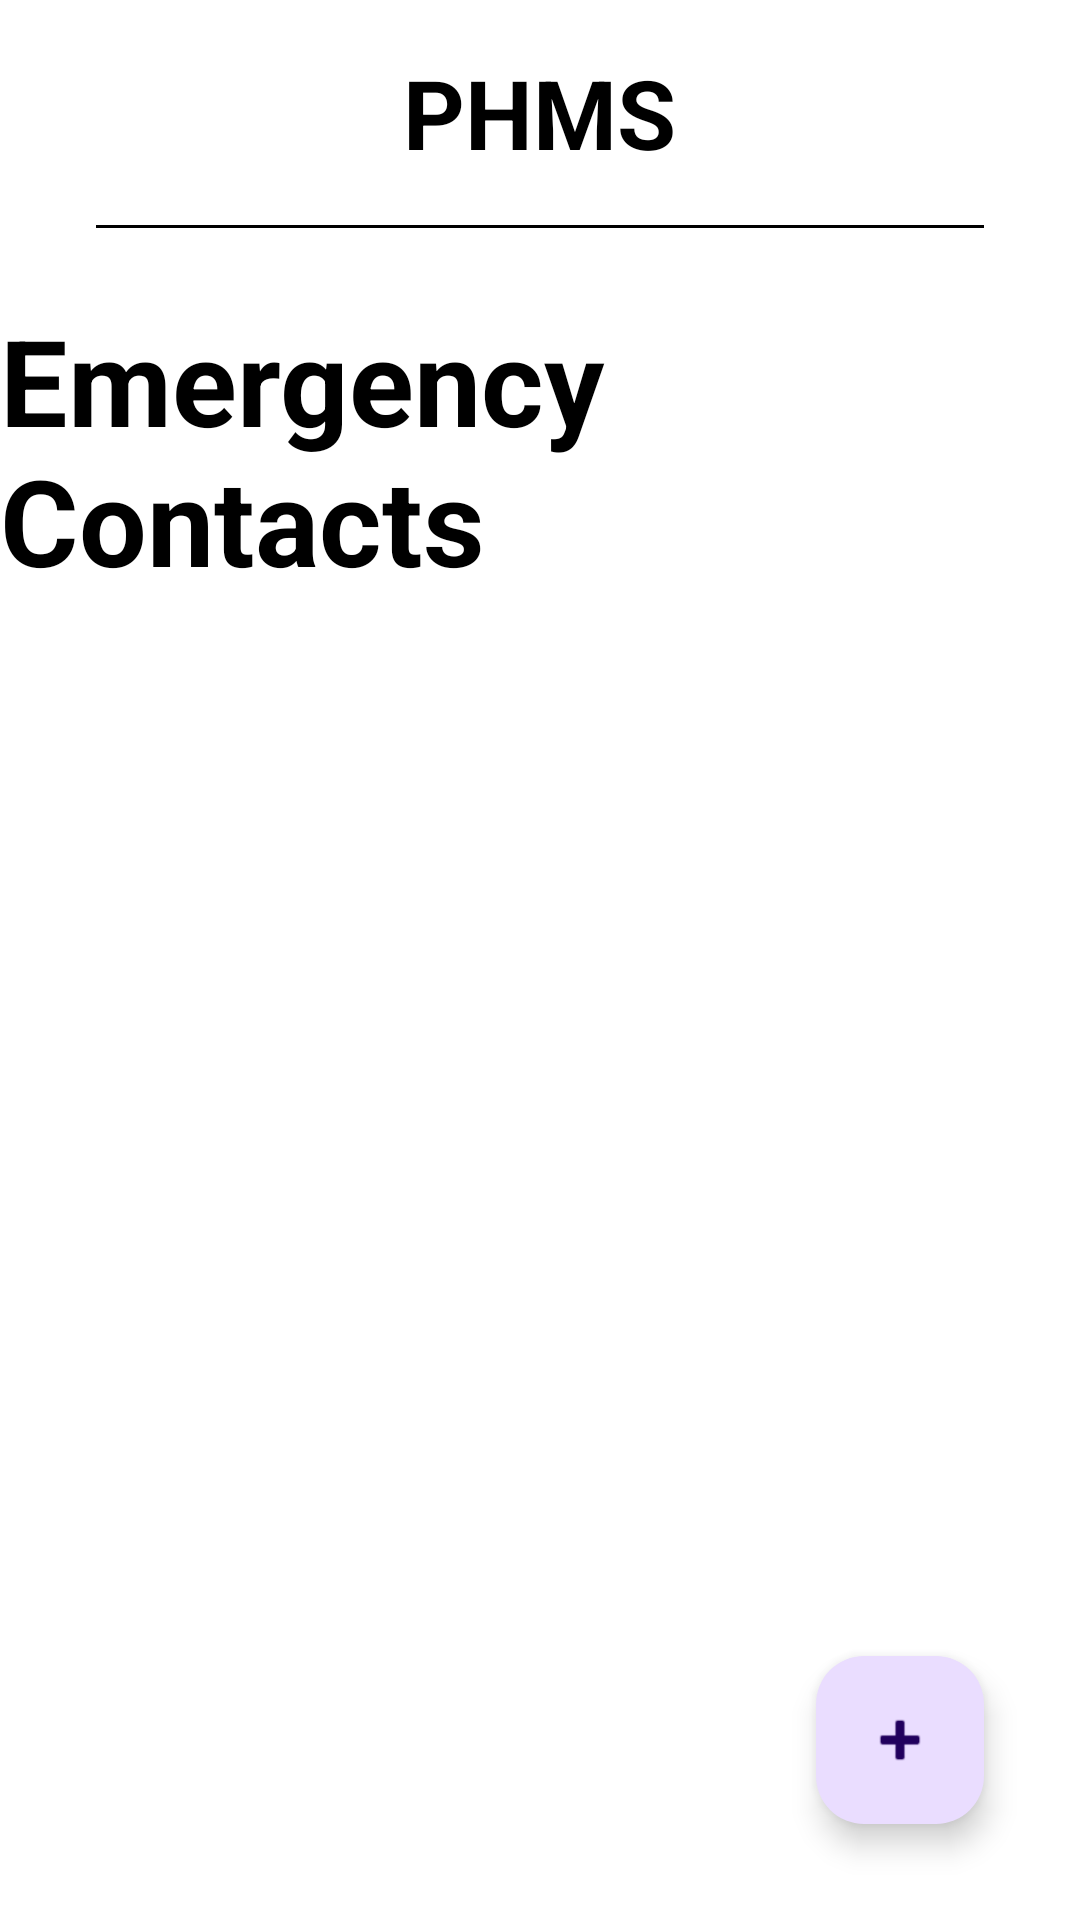

Where icons sit on this 1080 x 1920 app screen, as (x1, y1, x2, y2):
Add emergency contact: (816, 1656, 984, 1824)
